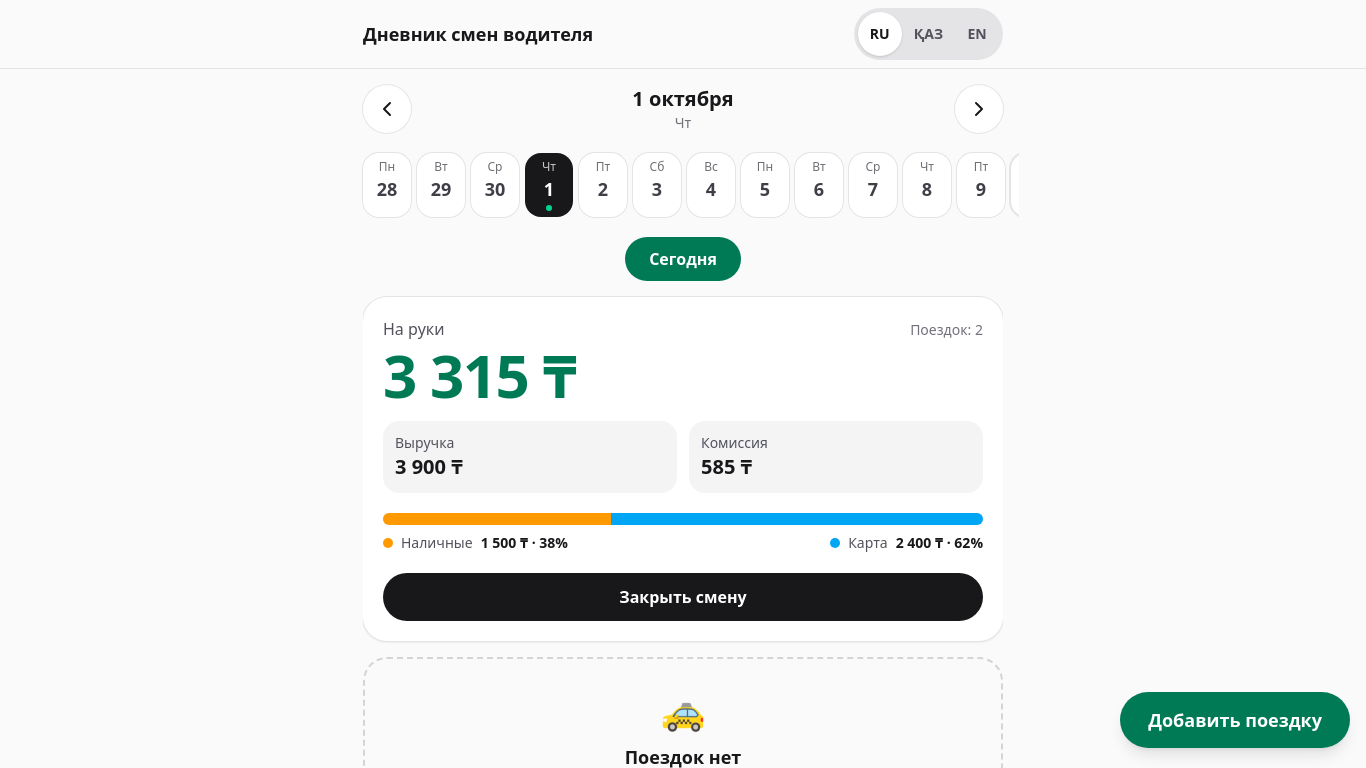
Test: Close shift in the app › opens the receipt for the day with trips
This screenshot has width=1366, height=768.
Click the button "Закрыть смену". click: [683, 597]
box: 383,573 -> 983,621
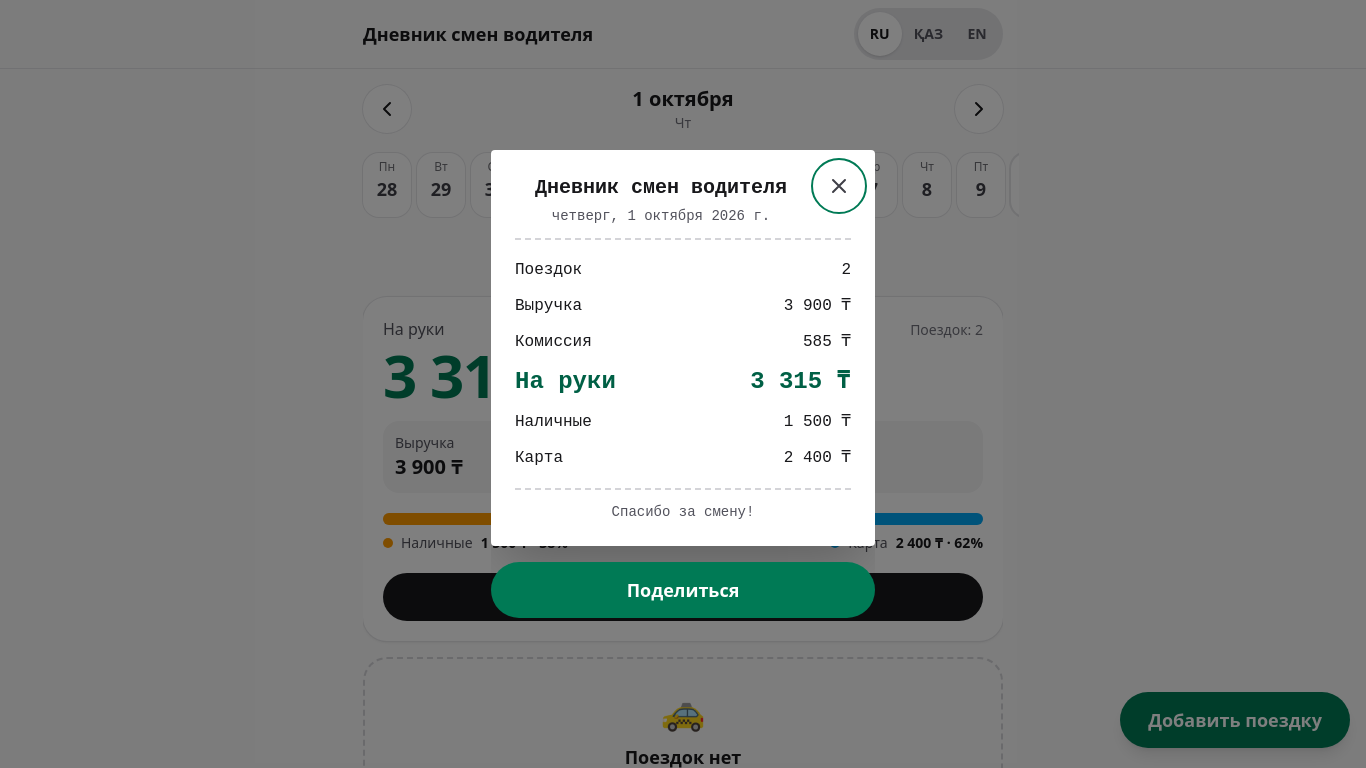
Press Escape
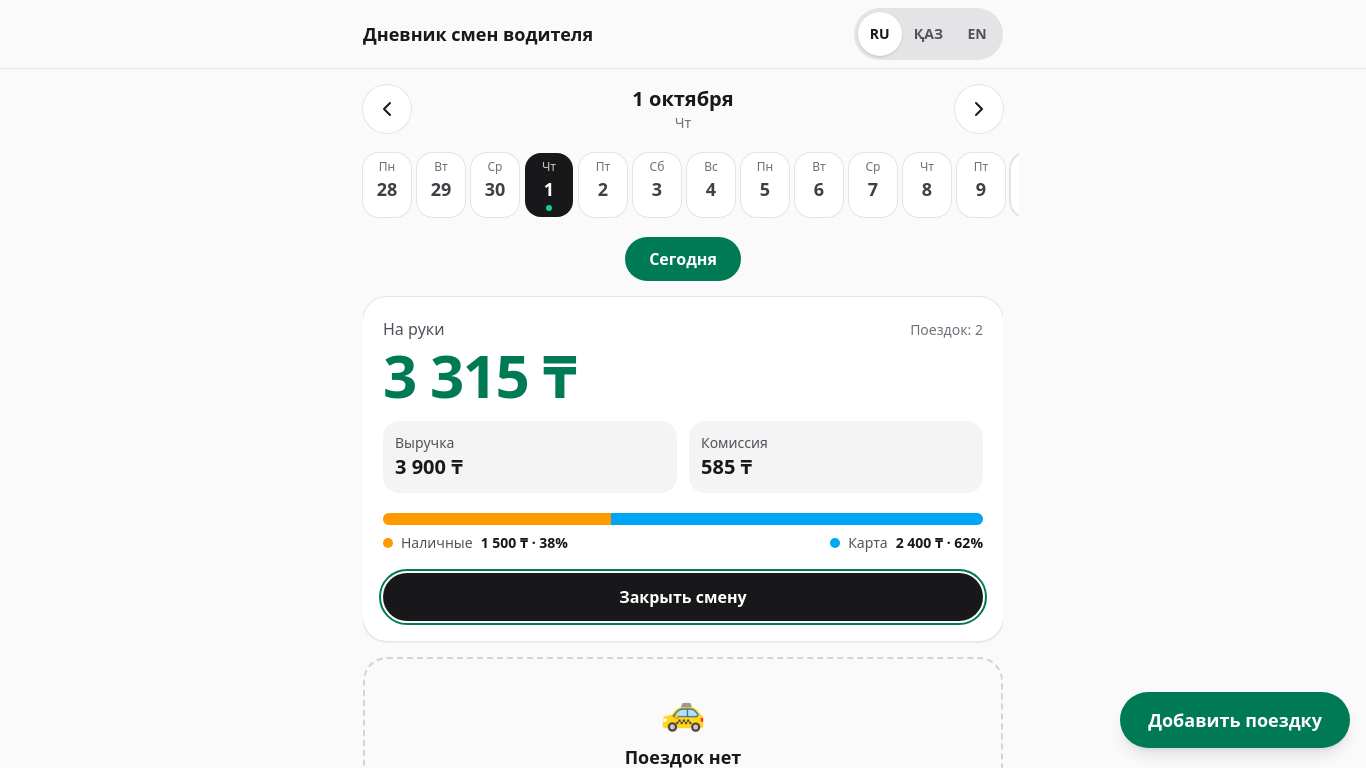
Result: the dialog is gone
